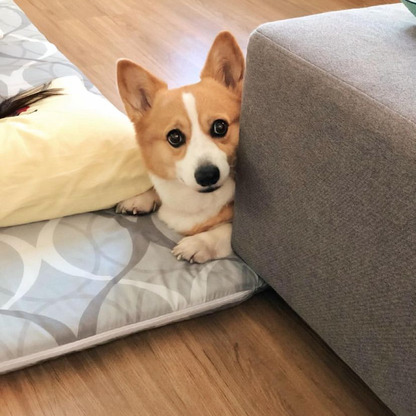Corgi: (105, 27, 264, 277)
